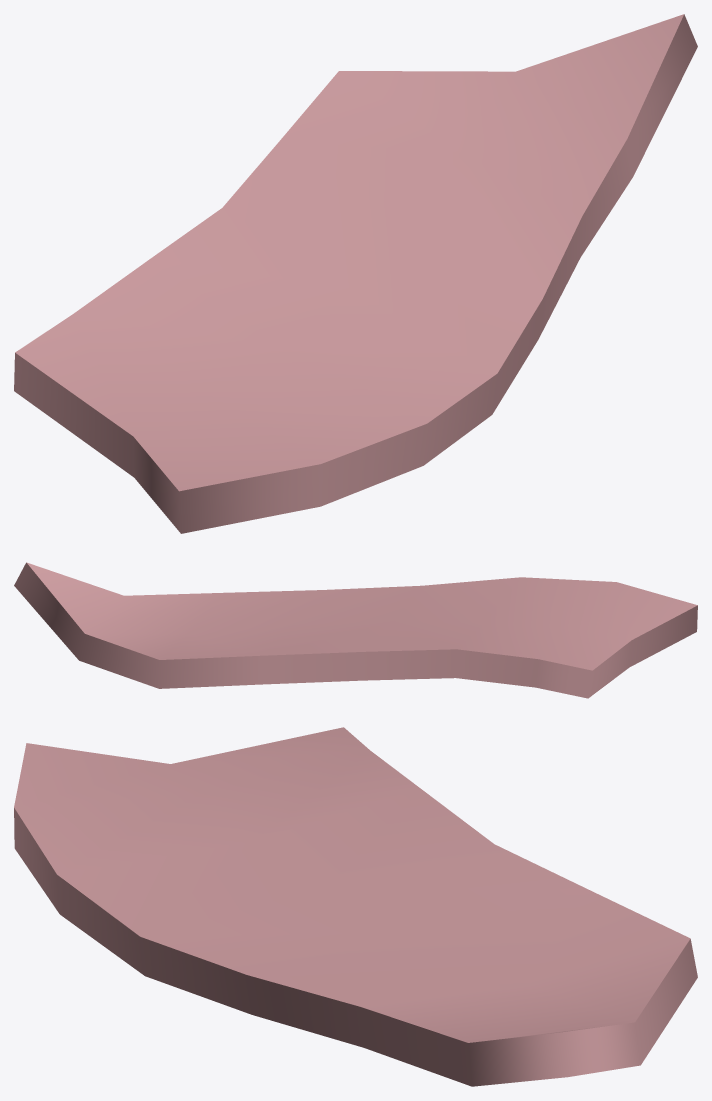
3 renders of one model, top to bottom at view 1: azimuth 30°, elevation 25°; view 2: azimuth 150°, elevation 25°; view 3: azimuth 270°, elevation 25°, orthographic. The views are drawn at different scales.
Parts seen in each view (by area): view 1: ZA_602d1e94c87e155e; view 2: ZA_602d1e94c87e155e; view 3: ZA_602d1e94c87e155e.
Boxes of the visible parts, x1,y1,x2,y2 form: ZA_602d1e94c87e155e: [14, 14, 697, 533]; ZA_602d1e94c87e155e: [14, 562, 697, 698]; ZA_602d1e94c87e155e: [14, 727, 697, 1086].
Bounding box in the file's own units: 0.0587 × 0.0099 × 0.0453.
